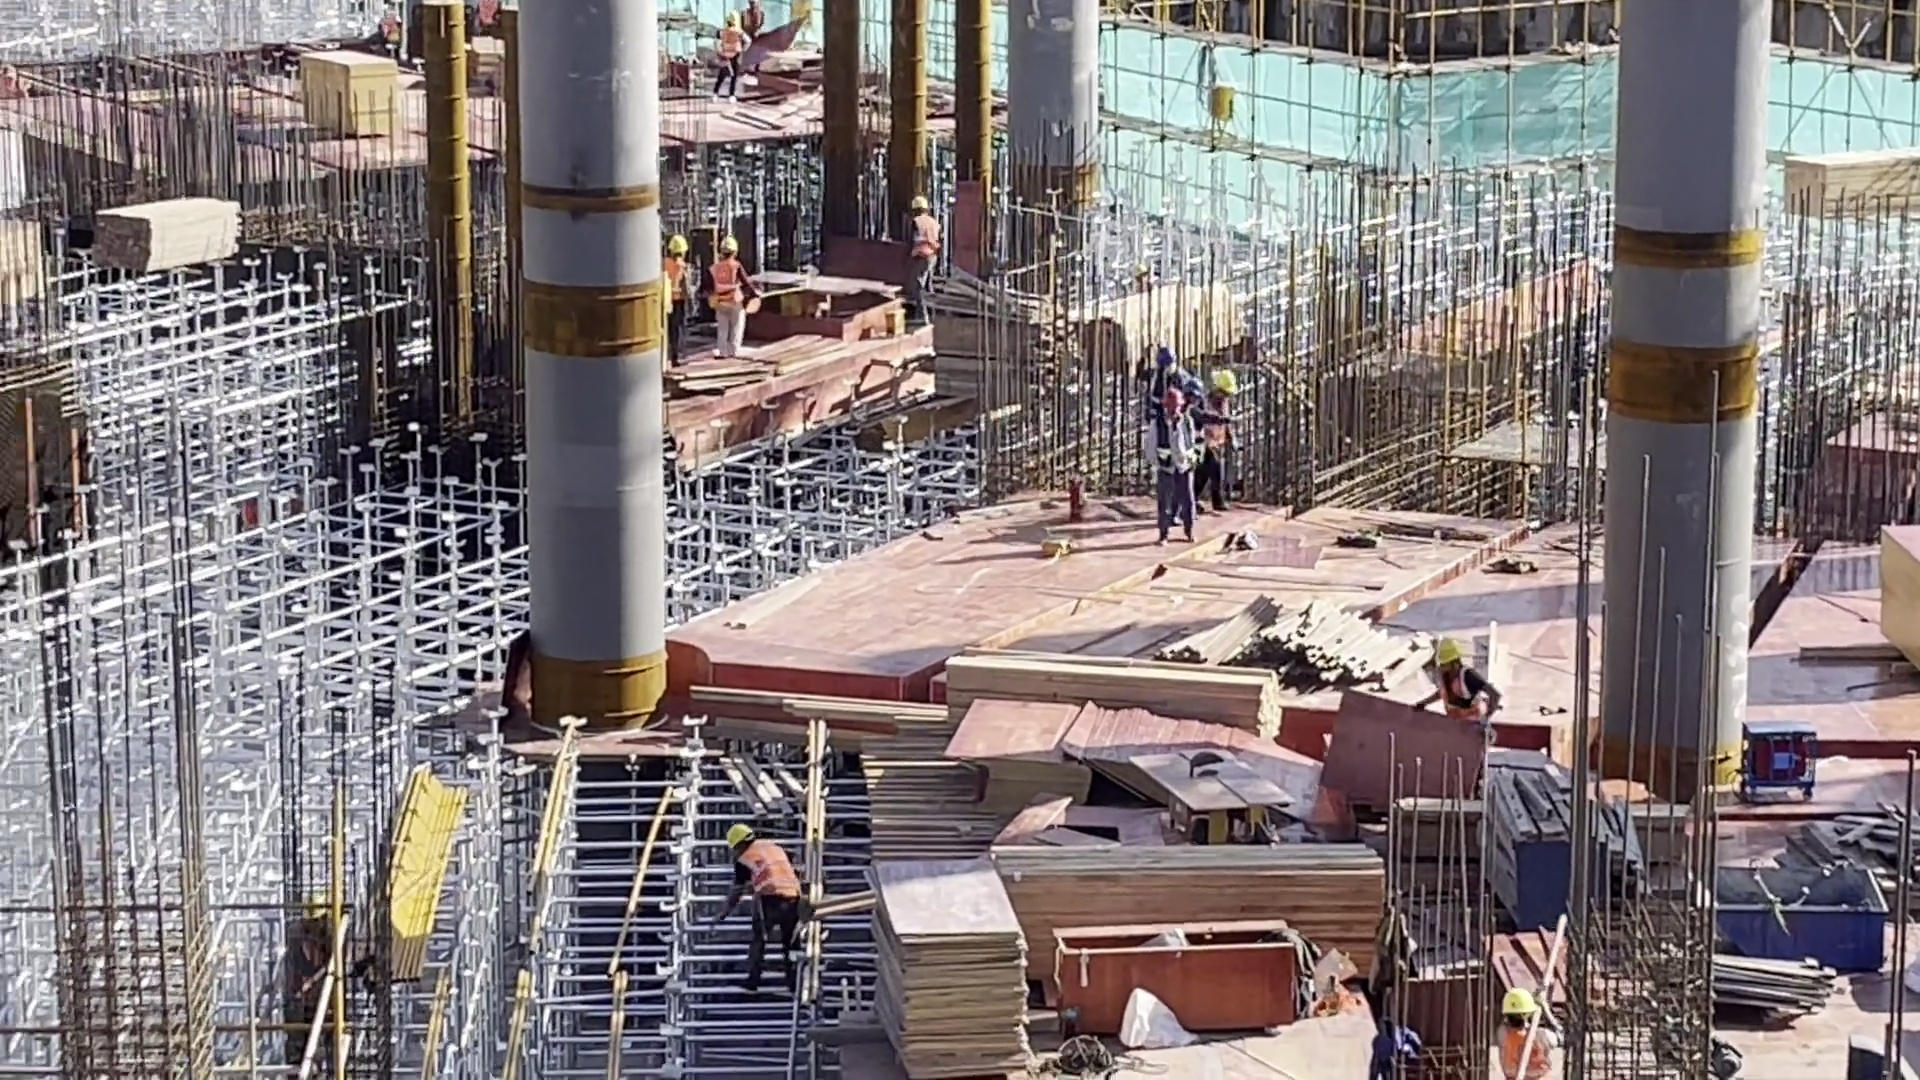board: (868, 872, 1039, 1080), (859, 738, 995, 870), (295, 48, 407, 144), (1487, 932, 1576, 1022), (1875, 527, 1920, 680)
cutter: (1113, 741, 1292, 845), (792, 277, 902, 349)
ebox: (1206, 85, 1238, 141), (790, 1, 821, 40)
helmet: (1501, 990, 1541, 1026), (723, 822, 754, 849), (1215, 369, 1242, 395), (1432, 639, 1466, 661), (1160, 387, 1187, 409), (667, 234, 688, 257), (715, 239, 738, 257), (906, 192, 933, 209), (1156, 347, 1175, 366)
hopper: (1712, 866, 1886, 979)
person: (702, 819, 808, 1004), (1418, 633, 1506, 761), (1194, 371, 1247, 527), (703, 240, 761, 362), (1148, 390, 1196, 539), (1486, 988, 1548, 1080), (901, 192, 949, 297), (659, 234, 694, 377), (711, 7, 746, 97), (1134, 340, 1189, 390)
vest: (729, 843, 800, 906), (1436, 660, 1487, 729), (1496, 1022, 1548, 1080), (1155, 416, 1191, 475), (1203, 393, 1231, 452), (1203, 396, 1231, 454), (907, 216, 947, 259), (708, 262, 740, 308), (659, 257, 686, 302), (721, 21, 741, 61)
wood: (917, 861, 1322, 946), (875, 664, 1217, 753), (1093, 609, 1401, 702), (853, 301, 994, 433), (1070, 283, 1238, 376), (1778, 810, 1920, 904), (91, 197, 241, 279), (1783, 146, 1920, 203)
